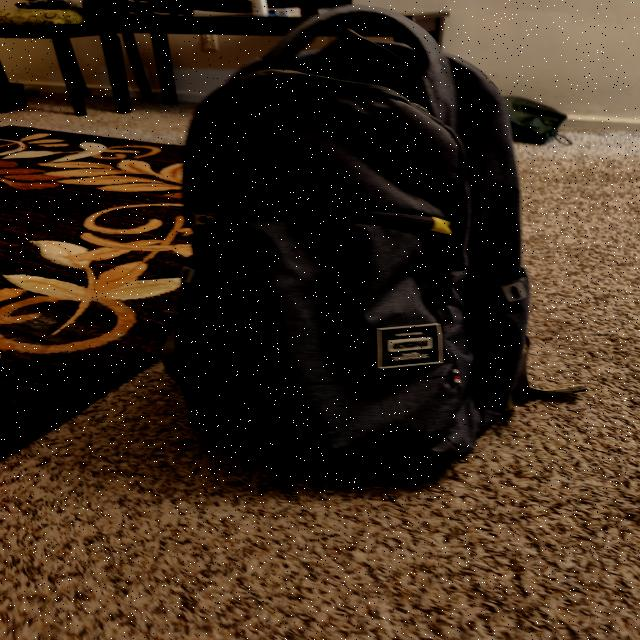bag: (180, 8, 522, 472)
